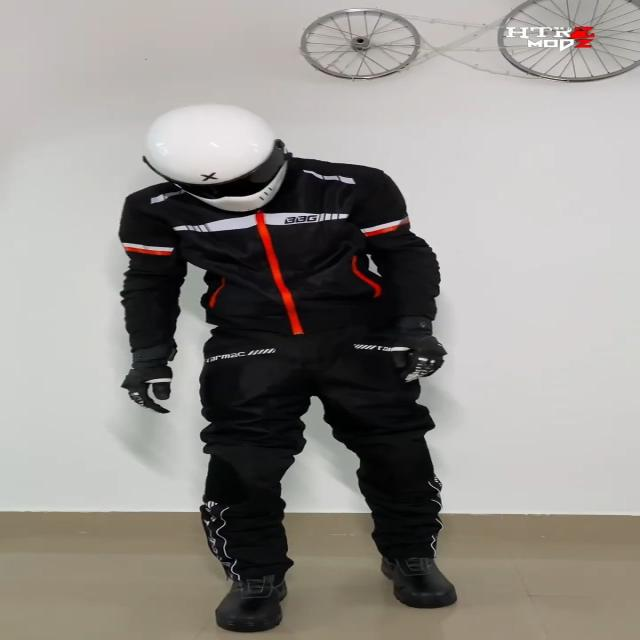Helmet_Wearer: (120, 105, 294, 209)
Jacket_Wearer: (100, 156, 473, 372)
Person: (102, 109, 502, 640)
